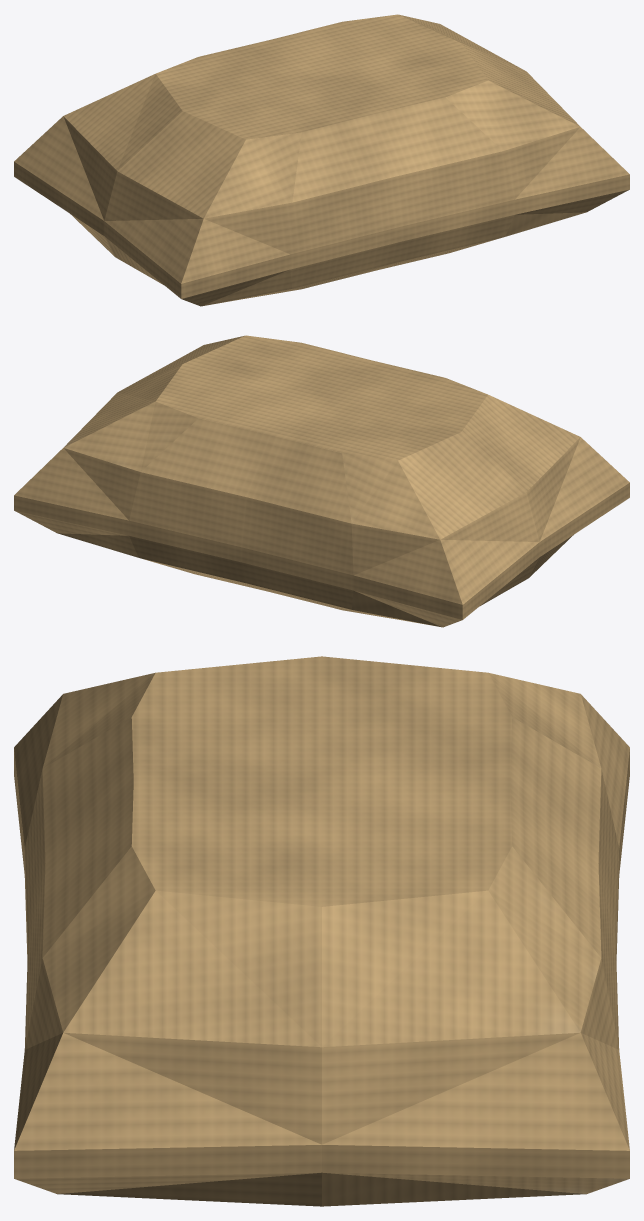
The model's file is FMS_Crate_Sack_Lying.fbx.
3 views of the same model, one above another, from view 1: azimuth 30°, elevation 25°; view 2: azimuth 150°, elevation 25°; view 3: azimuth 270°, elevation 25° (orthographic). The views are drawn at different scales.
Parts seen in each view (by area): view 1: item_stalls_sack_lying_v2; view 2: item_stalls_sack_lying_v2; view 3: item_stalls_sack_lying_v2.
Boxes of the visible parts, x1,y1,x2,y2 form: item_stalls_sack_lying_v2: (14, 14, 629, 306); item_stalls_sack_lying_v2: (14, 335, 629, 627); item_stalls_sack_lying_v2: (14, 656, 629, 1206).
Bounding box in the file's own units: 0.62 × 0.205 × 0.4.
